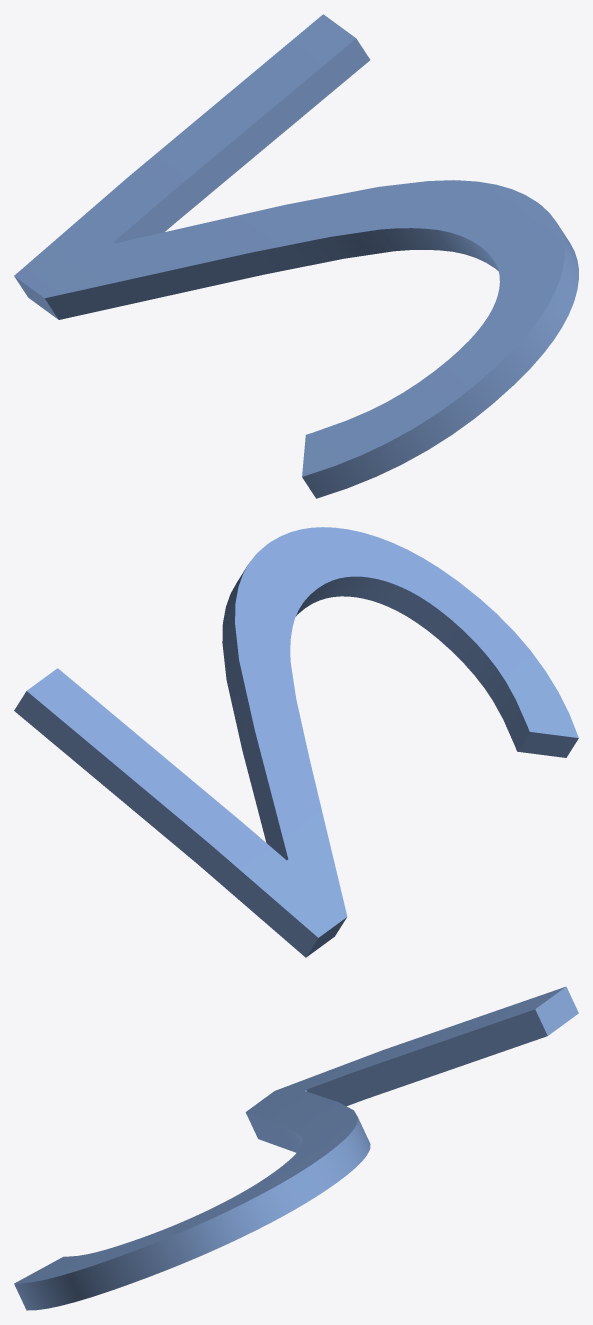
The model's file is New_Number_2.gltf.
3 views of the same model, one above another, from view 1: azimuth 30°, elevation 25°; view 2: azimuth 150°, elevation 25°; view 3: azimuth 330°, elevation 25° (orthographic). The views are drawn at different scales.
Visible parts, largest first — view 1: Part 317; view 2: Part 317; view 3: Part 317.
Boxes of the visible parts, x1,y1,x2,y2 form: Part 317: (14,14,578,498); Part 317: (14,527,578,957); Part 317: (14,986,578,1310).
Size of the model in its own units: 0.003 by 0.00187 by 0.00512.
